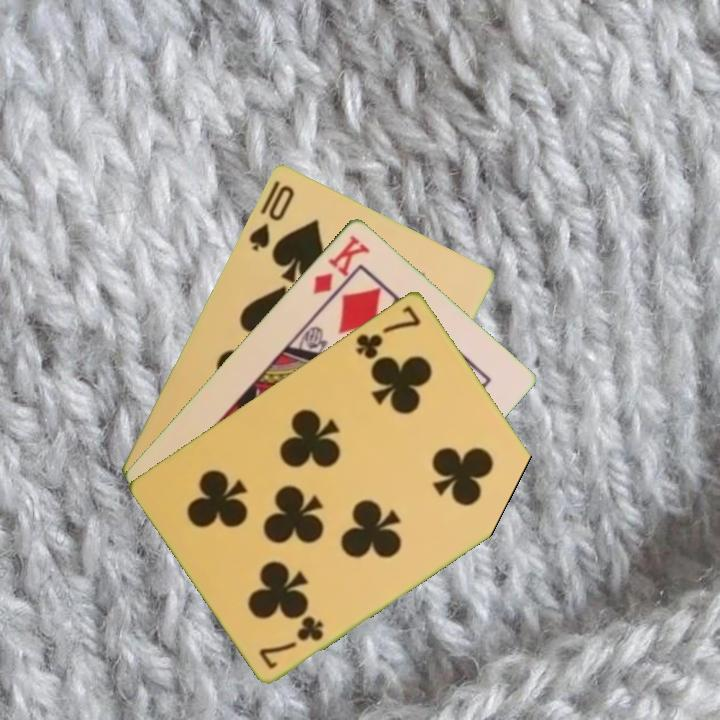10s: (245, 180, 298, 253)
7c: (352, 301, 424, 362), (255, 611, 327, 671)
Kd: (309, 230, 373, 297)
